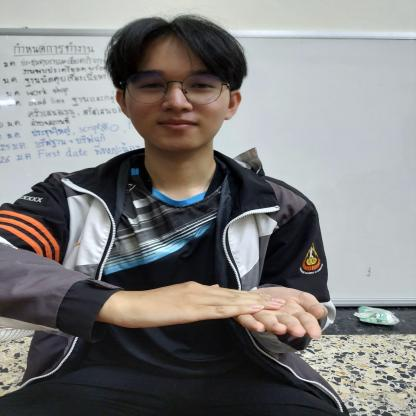Sorry: (112, 263, 335, 348)
